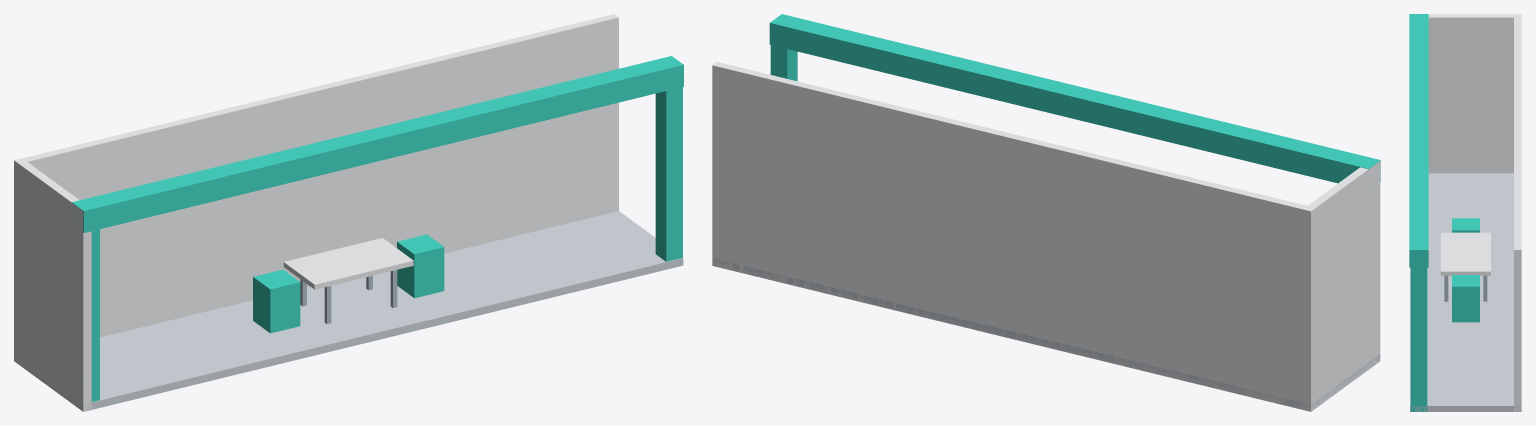
The picture shows the model from 3 angles, left to right: view 1: azimuth 30°, elevation 25°; view 2: azimuth 150°, elevation 25°; view 3: azimuth 270°, elevation 25°; orthographic projection. The views are drawn at different scales.
Parts seen in each view (by area): view 1: Exhibition Booth Concept; view 2: Exhibition Booth Concept; view 3: Exhibition Booth Concept.
Part boxes in pixels (<box>): Exhibition Booth Concept: <box>14,14,683,411</box>; Exhibition Booth Concept: <box>712,14,1380,411</box>; Exhibition Booth Concept: <box>1409,14,1521,411</box>.
Bounding box in the file's own units: 10 × 3.2 × 2.01.
